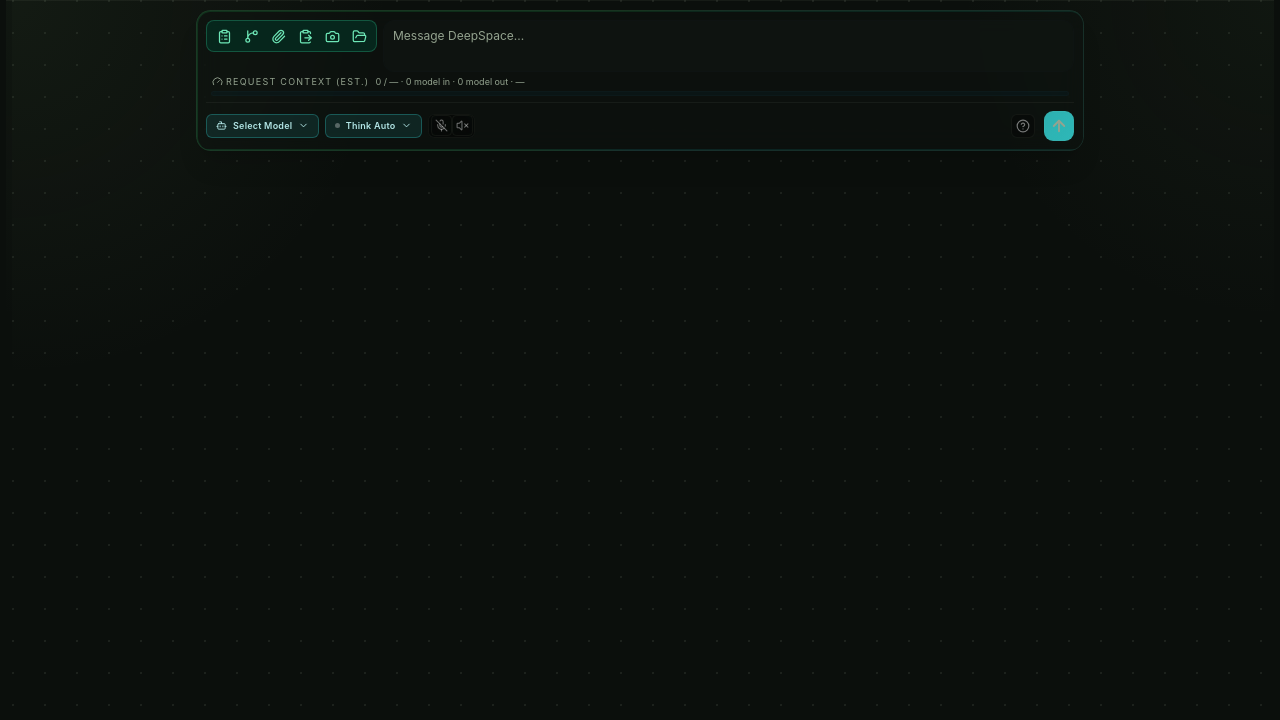
DeepSpaceComposer clipboard button › says so when the browser cannot read the clipboard at all
Click the button named "Paste from the clipboard": (305, 36) [293,24,317,48]
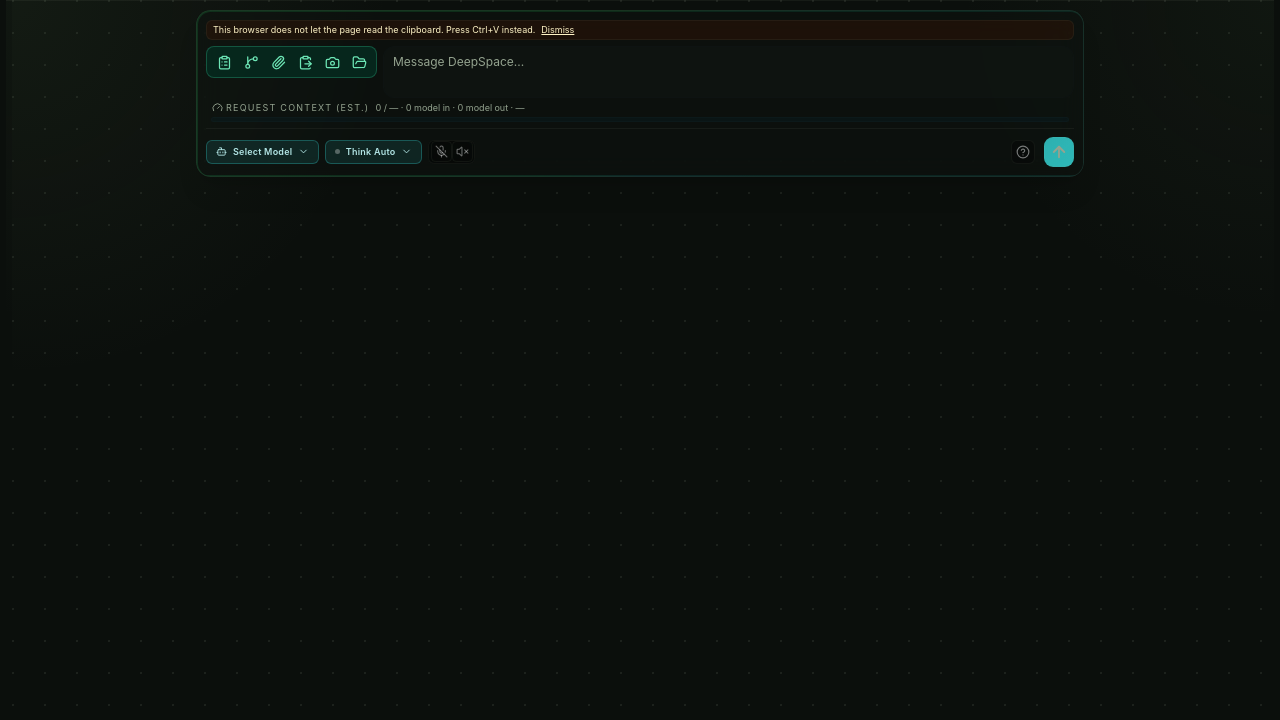
Check: the text "does not let the page read the clipboard" is shown, box [213,24,535,35]
